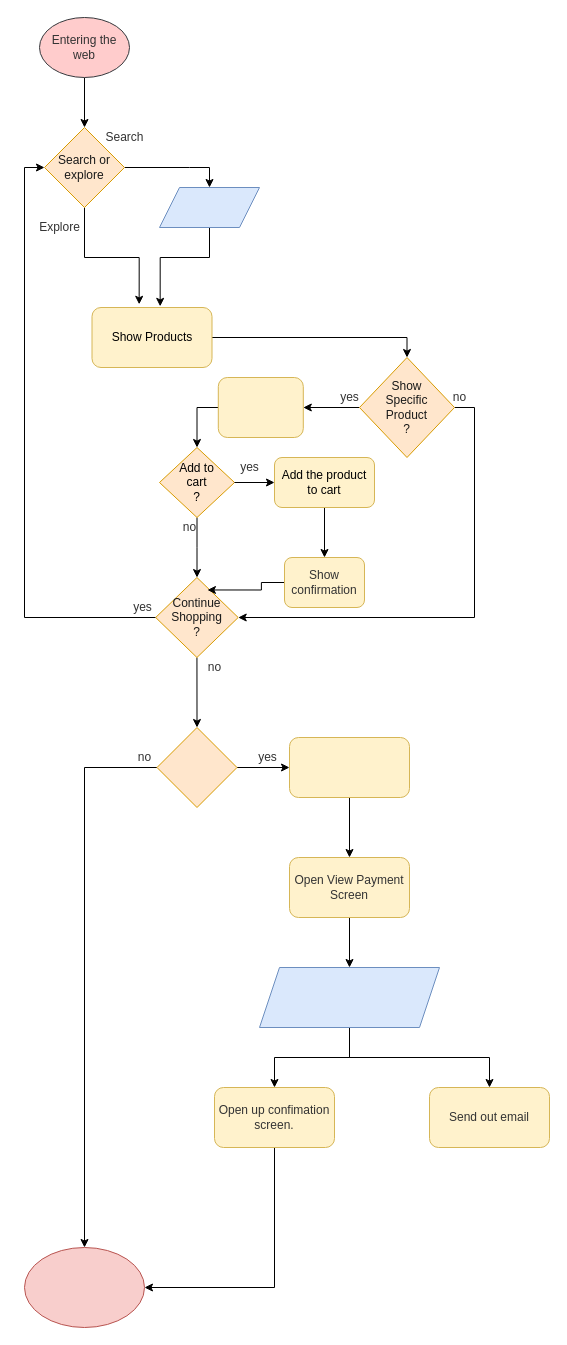
This 567x1345 diagram has some shape labels left out. Here are the shapes that lost their labels. From the top down, the centre of each, then its label:
At point 209,207: "Search input".
At point 260,407: "open specific product web page".
At point 196,767: "checkout ?".
At point 349,767: "Open View Cart screen".
At point 349,997: "User input Payment infromation".
At point 84,1287: "Leave the page".
